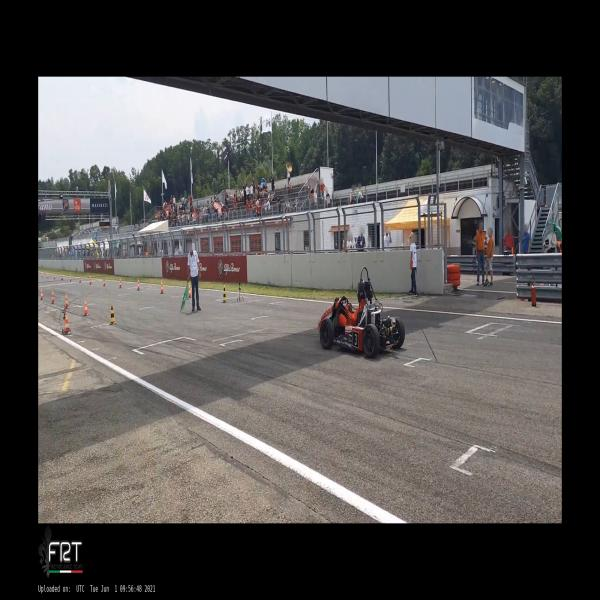large_orange_cone: (64, 312, 72, 335), (84, 298, 90, 316), (160, 280, 165, 294), (65, 292, 69, 309), (188, 282, 192, 298), (136, 278, 141, 290), (118, 278, 122, 289)
unknown_cone: (109, 302, 117, 324), (221, 285, 228, 303)
